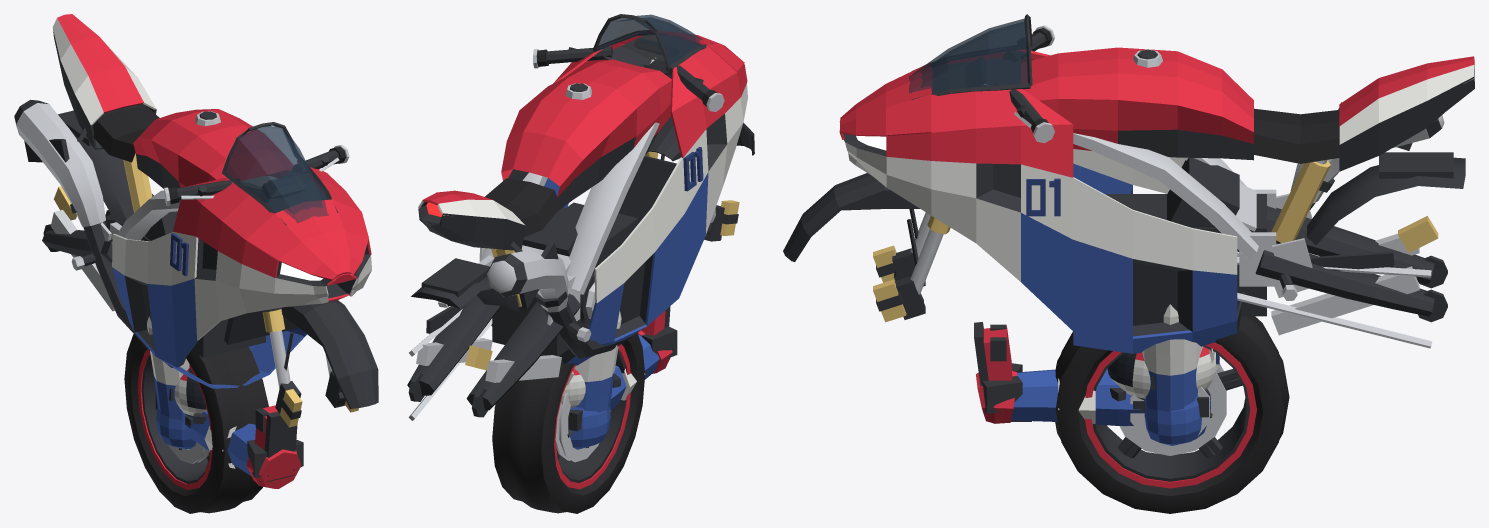
Rendered from bike_mid.glb.
3 views of the same model, side by side, from view 1: azimuth 30°, elevation 25°; view 2: azimuth 150°, elevation 25°; view 3: azimuth 270°, elevation 25° (orthographic). The views are drawn at different scales.
Parts seen in each view (by area): view 1: body, frame, wheelRear, fork, bubble, thighL, torso, shinL, helmet, pelvis, headlight, wheelFront (+1 smaller); view 2: body, frame, wheelRear, bubble, fork, torso, thighL, pelvis, wheelFront, thighR, helmet, shinL; view 3: body, frame, wheelRear, fork, bubble, thighL, torso, wheelFront, helmet, pelvis, shinL.
Boxes of the visible parts, x1=… form: body: x1=52, y1=14, x2=371, y2=388; frame: x1=14, y1=99, x2=349, y2=367; wheelRear: x1=124, y1=334, x2=268, y2=513; fork: x1=261, y1=300, x2=378, y2=427; bubble: x1=222, y1=122, x2=337, y2=225; thighL: x1=185, y1=411, x2=303, y2=488; torso: x1=147, y1=316, x2=189, y2=422; shinL: x1=255, y1=405, x2=297, y2=481; helmet: x1=169, y1=368, x2=206, y2=428; pelvis: x1=156, y1=407, x2=196, y2=449; headlight: x1=276, y1=244, x2=370, y2=286; wheelFront: x1=150, y1=371, x2=209, y2=474; body: x1=418, y1=30, x2=747, y2=365; frame: x1=407, y1=34, x2=724, y2=420; wheelRear: x1=492, y1=332, x2=644, y2=513; bubble: x1=592, y1=14, x2=712, y2=70; fork: x1=642, y1=57, x2=754, y2=241; torso: x1=566, y1=310, x2=621, y2=431; thighL: x1=610, y1=330, x2=672, y2=410; pelvis: x1=568, y1=406, x2=610, y2=449; wheelFront: x1=555, y1=401, x2=615, y2=478; thighR: x1=642, y1=326, x2=677, y2=361; helmet: x1=561, y1=369, x2=620, y2=408; shinL: x1=641, y1=306, x2=670, y2=335; body: x1=839, y1=47, x2=1474, y2=353; frame: x1=933, y1=25, x2=1465, y2=348; wheelRear: x1=1055, y1=316, x2=1289, y2=513; fork: x1=783, y1=83, x2=997, y2=322; bubble: x1=909, y1=14, x2=1032, y2=99; thighL: x1=976, y1=368, x2=1145, y2=426; torso: x1=1142, y1=304, x2=1219, y2=417; wheelFront: x1=1096, y1=366, x2=1244, y2=474; helmet: x1=1107, y1=347, x2=1219, y2=411; pelvis: x1=1144, y1=394, x2=1210, y2=445; shinL: x1=974, y1=322, x2=1127, y2=426.
Bounding box in the file's own units: 0.6423 × 1.44 × 1.85.
